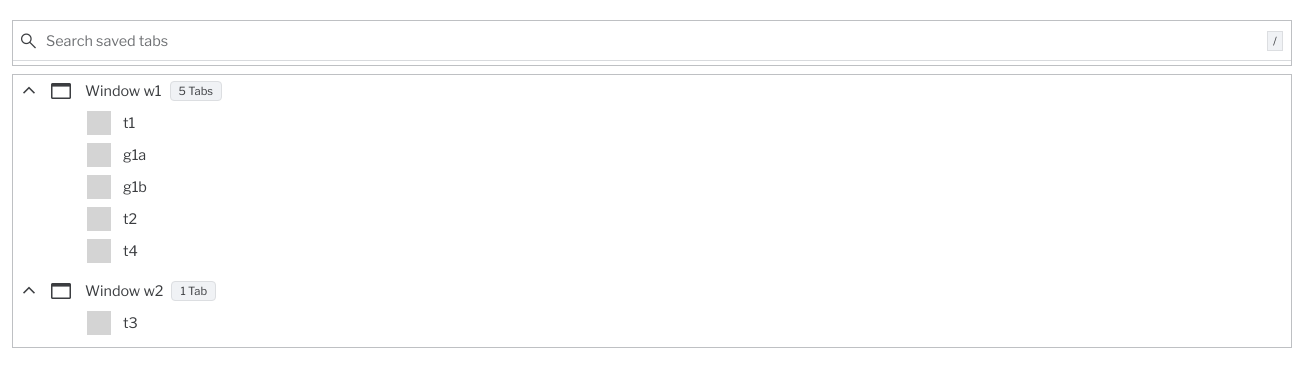
Scenario: from a real drag out of the detail › rest on a row: that session opens in the detail, and the carry goes on
This screenshot has width=1304, height=365.
Step 1. Press the mouse on the element showing "t2" → (687, 219), box [83, 203, 1291, 235]
Wait 600 ms
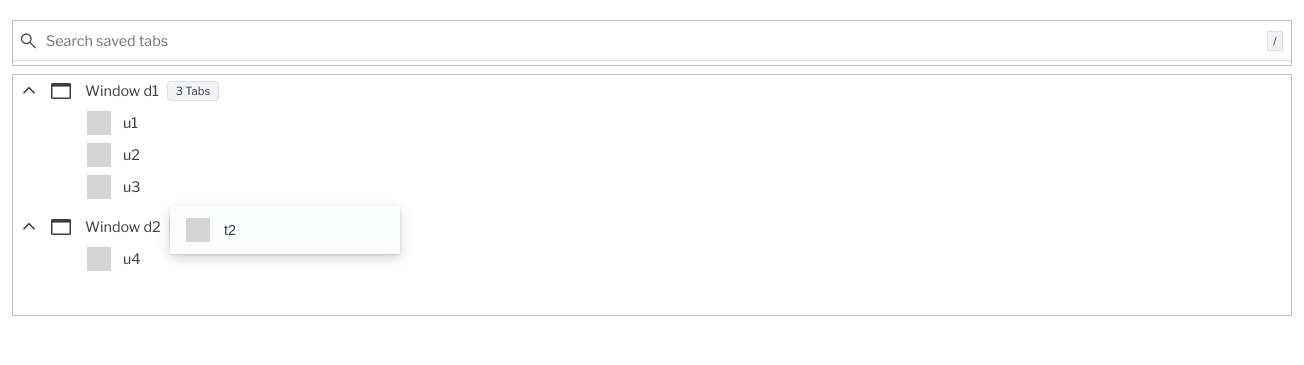
Check: the element showing "u1" is shown, box [83, 107, 1291, 139]
